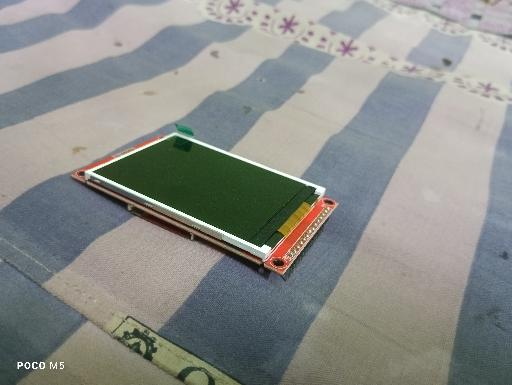Display: (68, 122, 340, 283)
